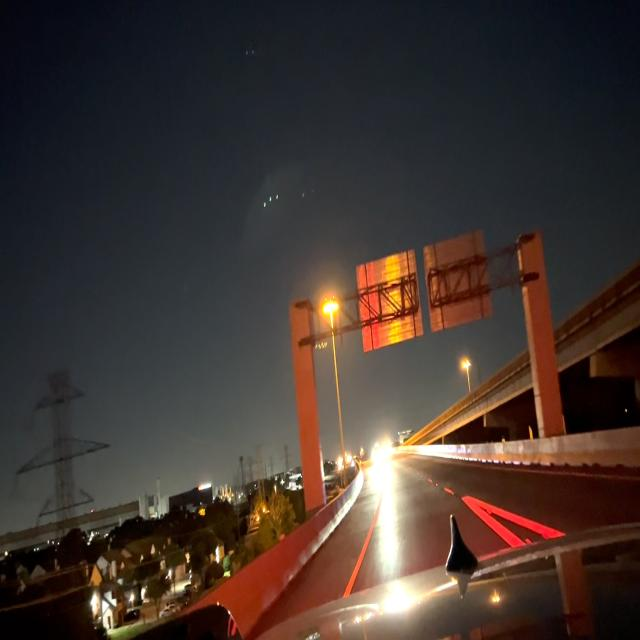back-of-sign: (422, 230, 494, 337), (356, 249, 422, 358)
